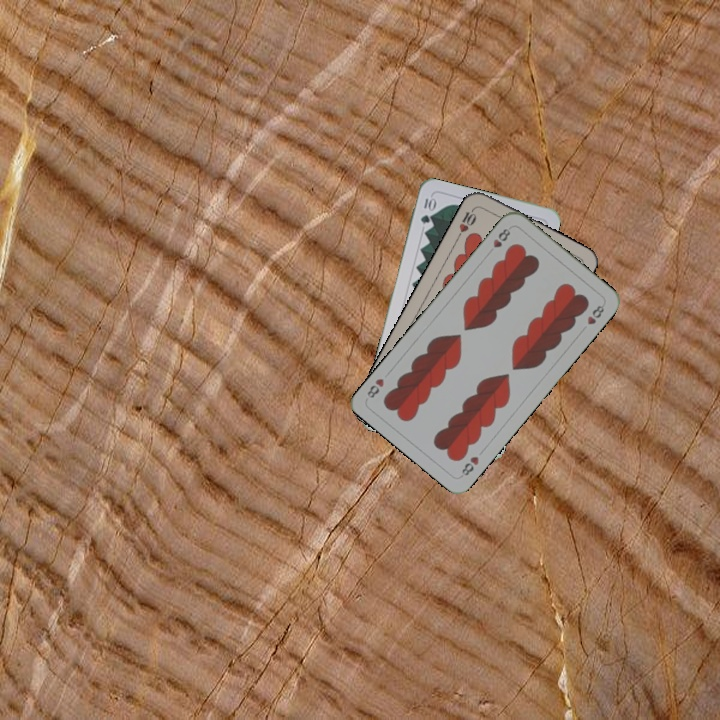G10: (416, 193, 437, 226)
H10: (453, 203, 479, 241)
H8: (484, 224, 513, 257), (457, 452, 482, 480)
